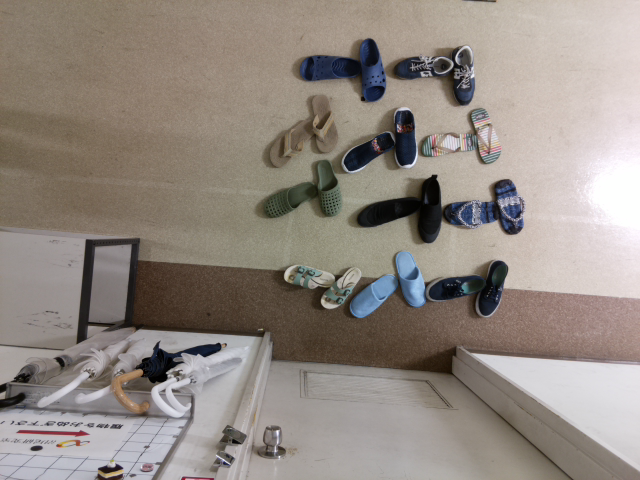Copy of Copy of Copy of Copy of Copy of Copy of Copy of Copy of Copy of Copy of: (261, 114, 322, 170), (348, 266, 403, 325), (337, 124, 398, 176), (252, 177, 322, 222), (349, 191, 425, 231), (312, 258, 367, 313), (304, 91, 346, 158), (307, 158, 349, 224), (278, 253, 340, 294), (415, 271, 489, 303), (438, 197, 507, 231), (415, 127, 484, 160)
Copy of Copy of Copy of Copy of Copy of Copy of Copy of Copy of Copy of shoe: (386, 47, 455, 80)
Copy of Copy of Copy of Copy of Copy of Copy of Copy of Copy of shoe: (446, 41, 484, 107)
Copy of Copy of Copy of Copy of Copy of Copy of Copy of shoe: (466, 102, 510, 170)
Copy of Copy of Copy of Copy of Copy of Copy of shoe: (490, 171, 534, 242)
Copy of Copy of Copy of Copy of Copy of shoe: (473, 252, 517, 323)
Copy of Copy of Copy of Copy of Copy of umbrella: (166, 336, 260, 416)
Copy of Copy of Copy of Copy of shoe: (390, 245, 430, 314)
Copy of Copy of Copy of Copy of umbrella: (142, 338, 258, 418)
Copy of Copy of Copy of shoe: (409, 169, 448, 246)
Copy of Copy of Copy of umbrella: (97, 334, 229, 416)
Copy of Copy of shoe: (382, 99, 425, 174)
Copy of Copy of umbrella: (70, 314, 150, 410)
Copy of shoe: (351, 32, 393, 107)
Copy of umbrella: (32, 314, 148, 412)
shoe: (289, 44, 364, 85)
umbrella: (2, 312, 151, 414)
